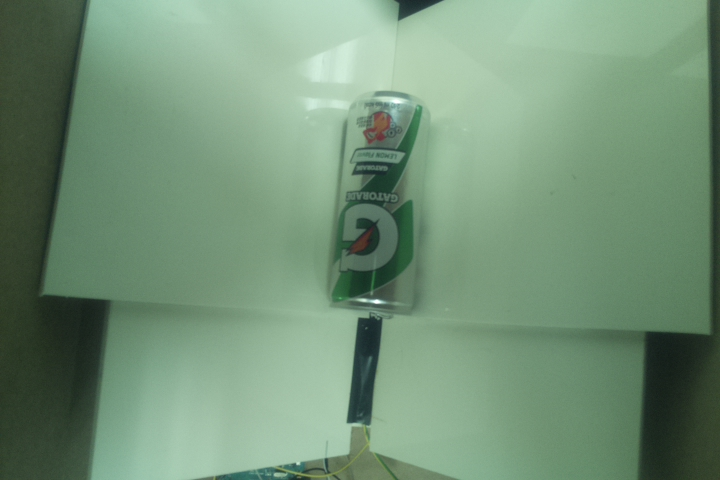can: (327, 87, 431, 322)
